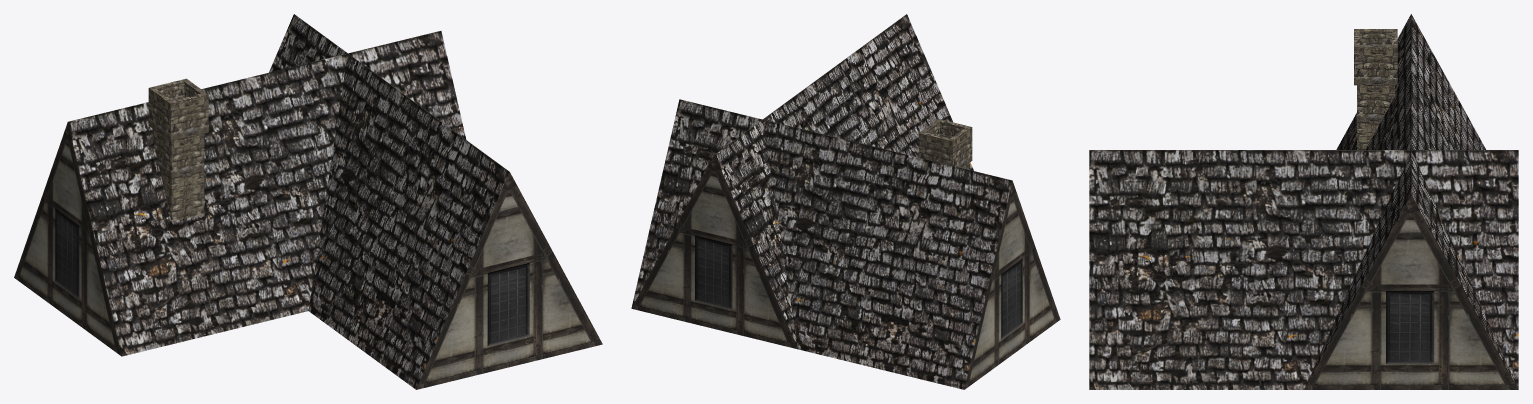
The model's file is Roof02.FBX.
3 views of the same model, side by side, from view 1: azimuth 30°, elevation 25°; view 2: azimuth 150°, elevation 25°; view 3: azimuth 270°, elevation 25° (orthographic). The views are drawn at different scales.
Parts seen in each view (by area): view 1: Roof02; view 2: Roof02; view 3: Roof02.
Part boxes in pixels (left/top/right/bottom): Roof02: left=14, top=14, right=602, bottom=389; Roof02: left=631, top=14, right=1060, bottom=389; Roof02: left=1089, top=14, right=1518, bottom=389.
Bounding box in the file's own units: 973 × 538 × 973.
